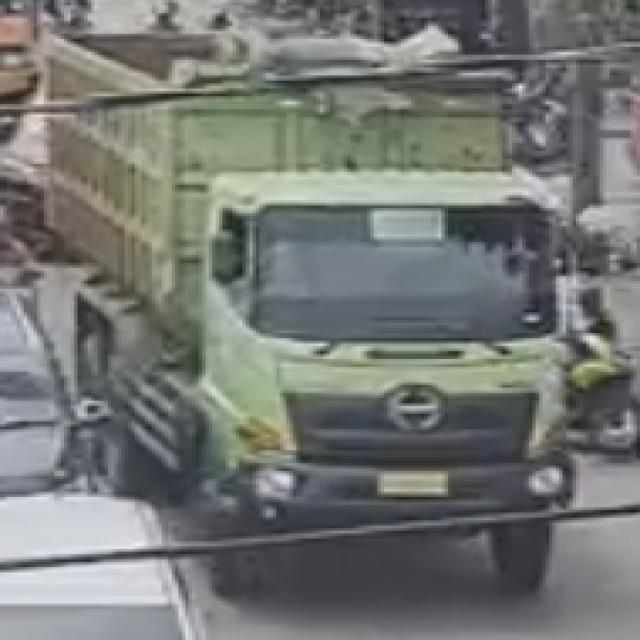truck: (142, 21, 618, 598)
